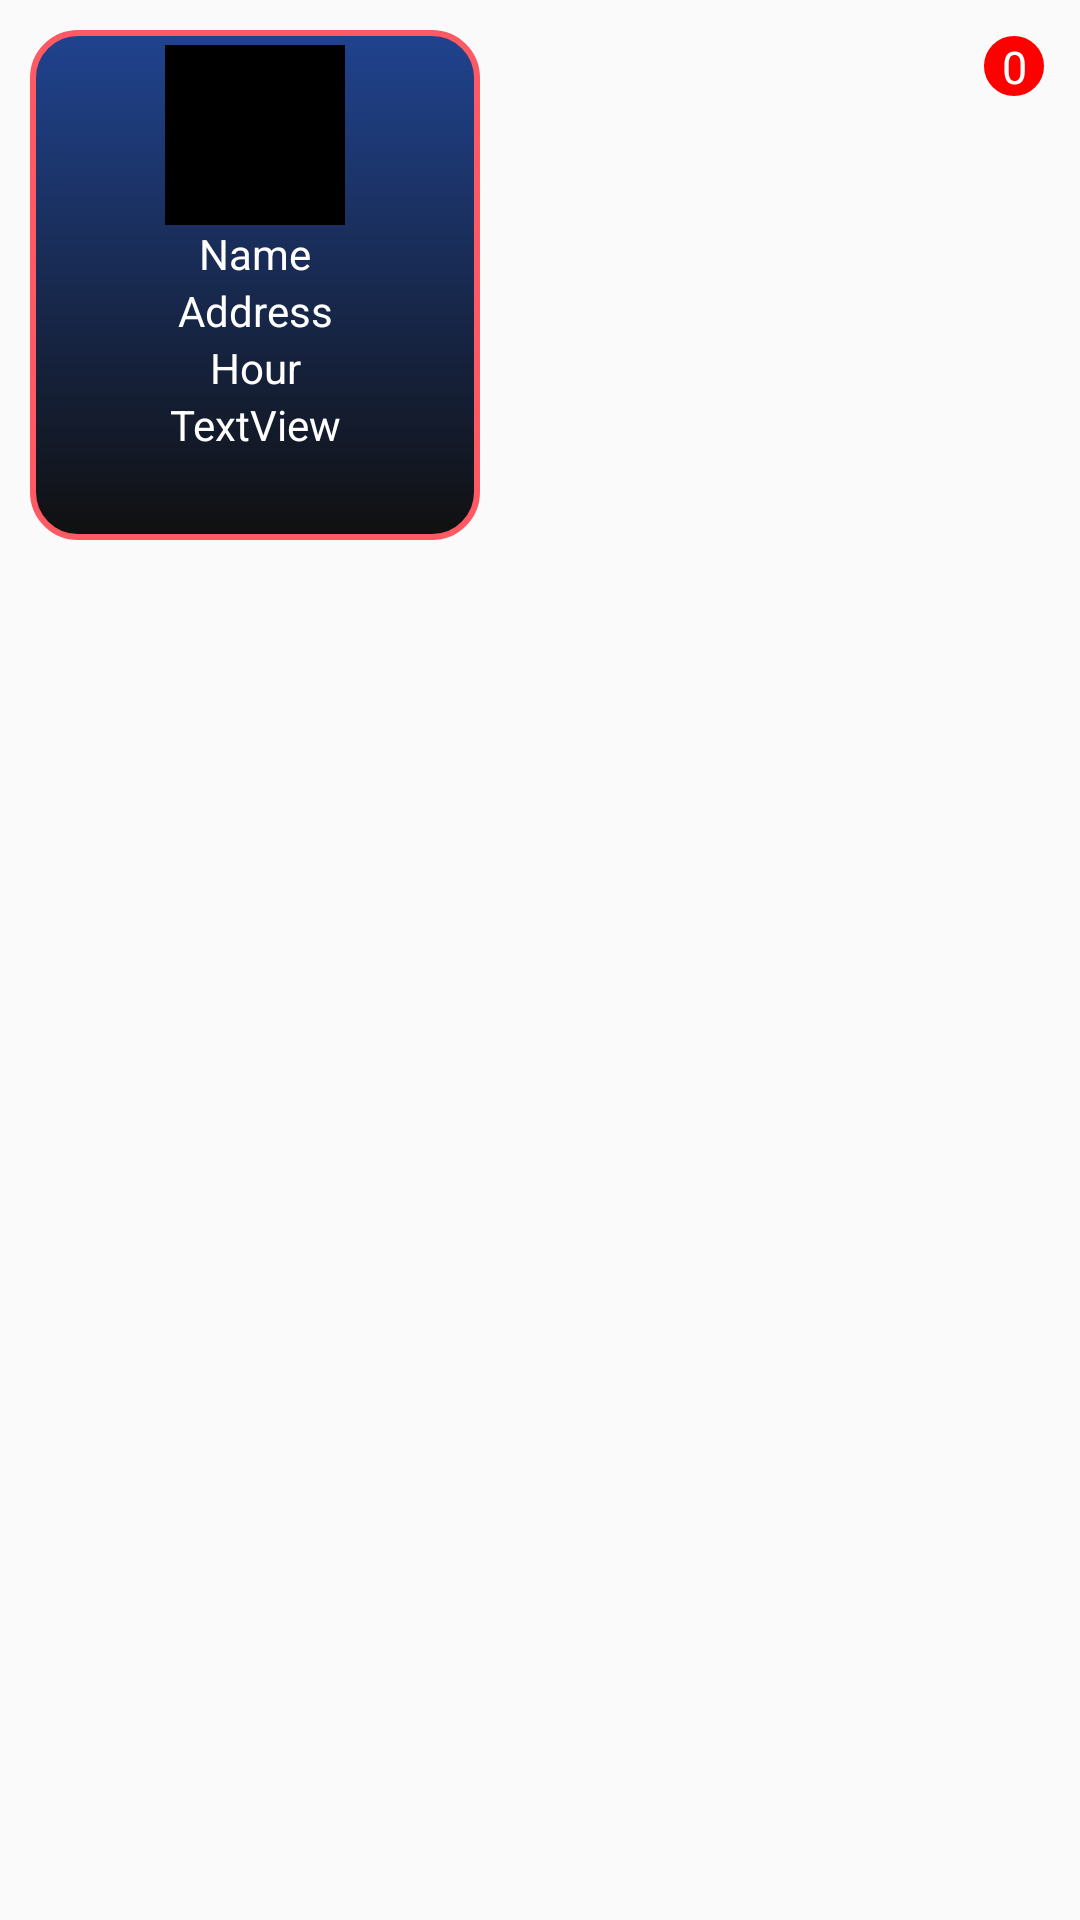

Icons on this 1080*1920 Android screen, each with the point to tap as [x,y]:
badge: [1014,66]
